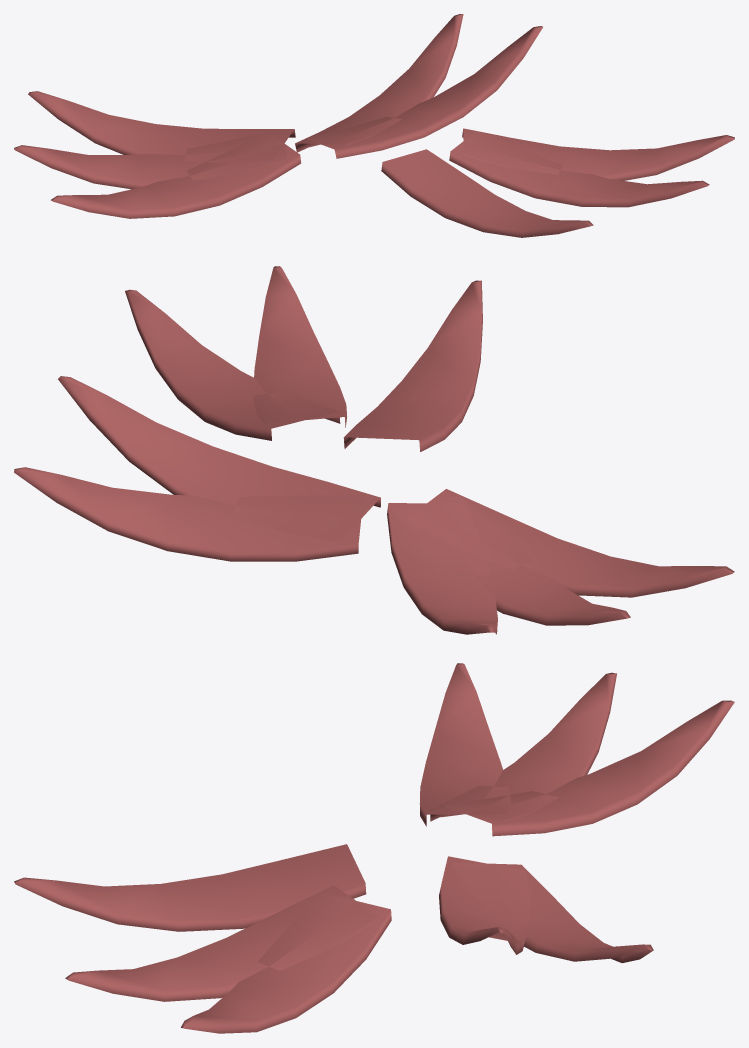
Rendered from Fur.fbx.
The picture shows the model from 3 angles, top to bottom: view 1: azimuth 30°, elevation 25°; view 2: azimuth 150°, elevation 25°; view 3: azimuth 270°, elevation 25°; orthographic projection. The views are drawn at different scales.
Visible parts, largest first — view 1: Fur; view 2: Fur; view 3: Fur.
Boxes of the visible parts, x1,y1,x2,y2 form: Fur: (14, 14, 734, 237); Fur: (14, 266, 734, 634); Fur: (14, 663, 734, 1033).
Bounding box in the file's own units: 22.88 × 3.13 × 19.07.
